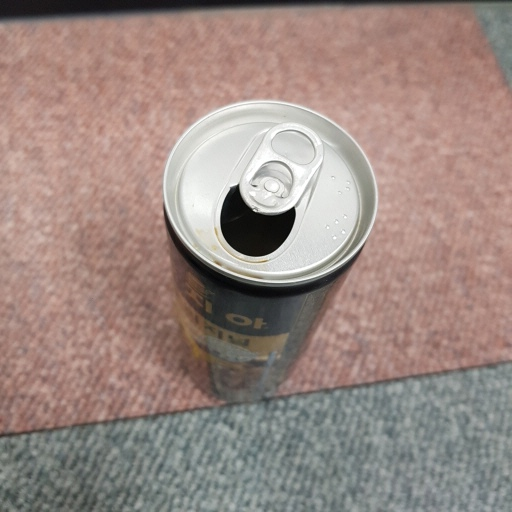Metal_0: (158, 95, 379, 407)
